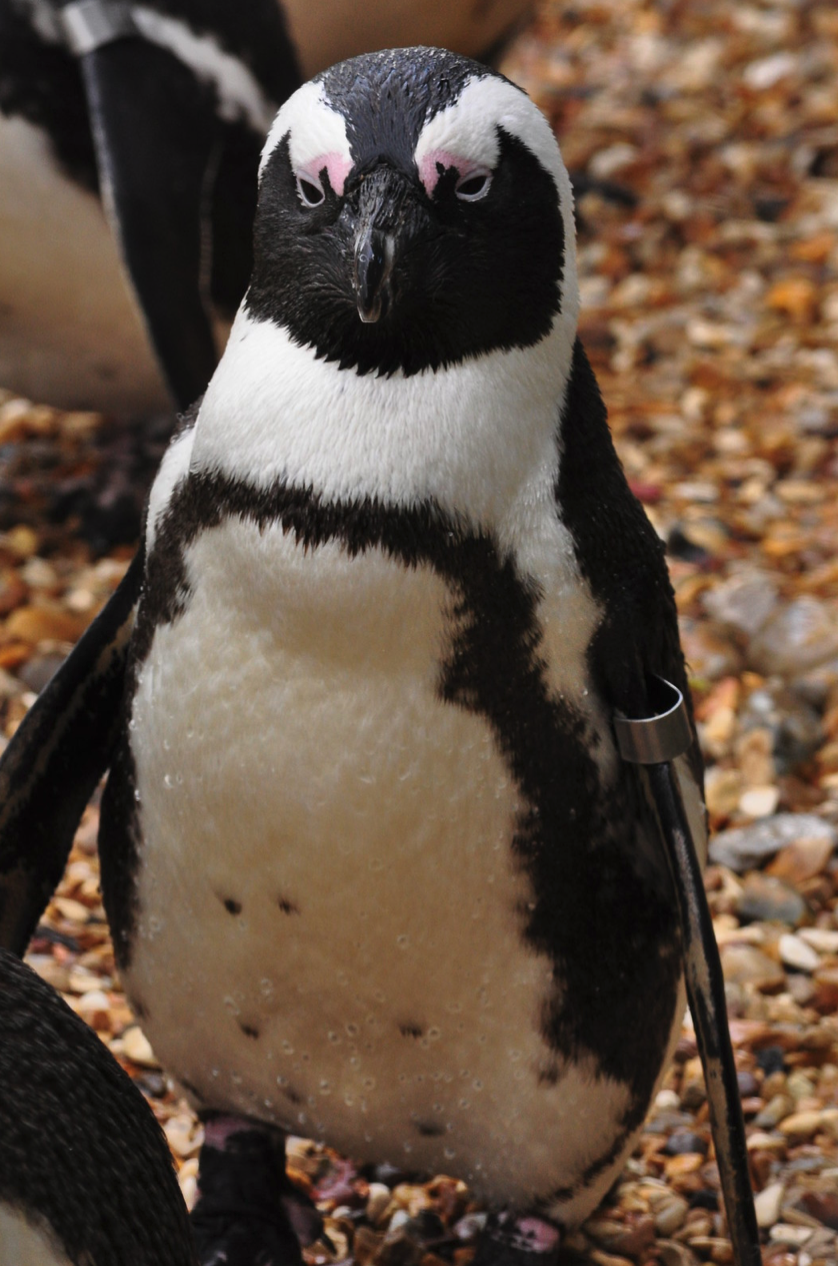penguin: (18, 41, 764, 1266)
